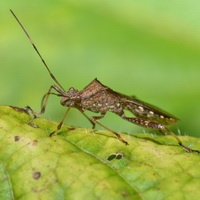insect: (10, 9, 199, 153)
